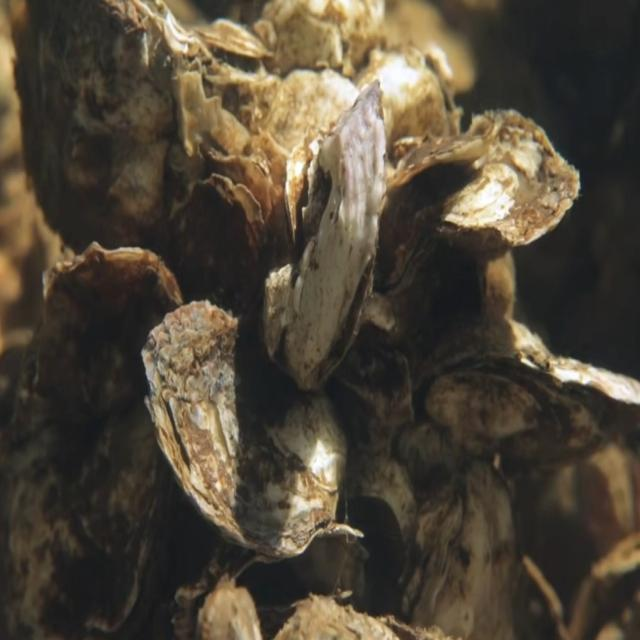Oyster-Closed: (5, 240, 184, 640), (260, 78, 386, 392), (410, 314, 640, 482), (380, 108, 580, 296), (391, 458, 523, 640)
Oyster-Indeterminate: (13, 0, 221, 272), (140, 299, 352, 562), (168, 172, 268, 326)
Oyster-Open: (230, 523, 363, 640)
